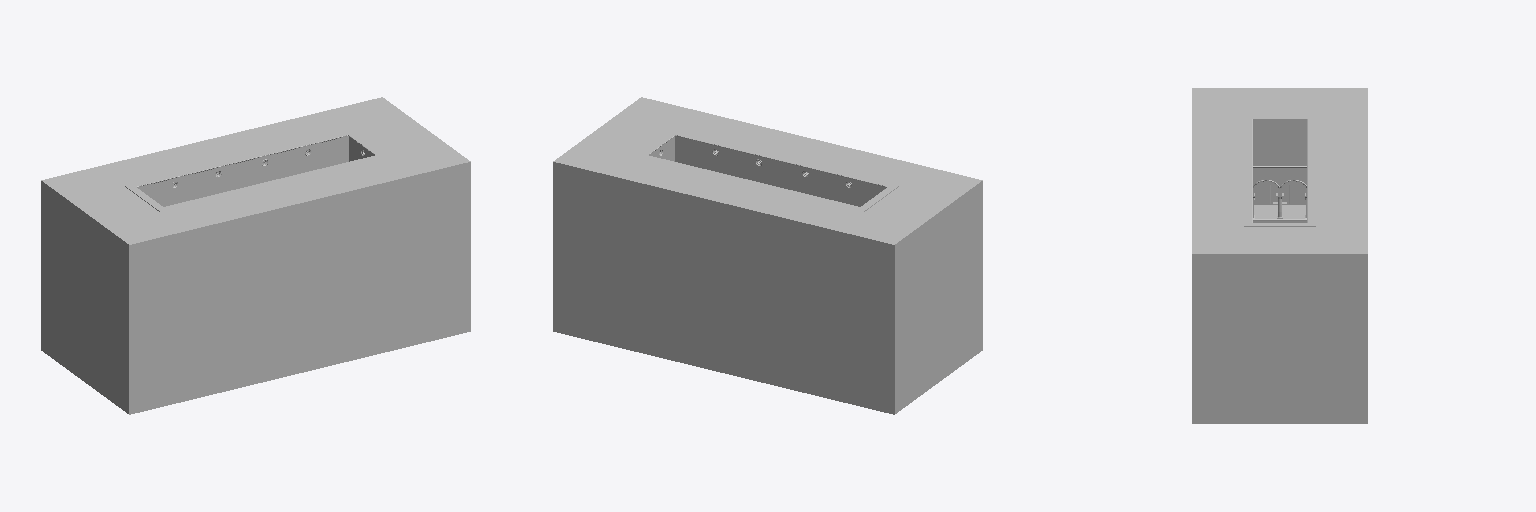
File: sponza_tri.obj
The picture shows the model from 3 angles: view 1: azimuth 30°, elevation 25°; view 2: azimuth 150°, elevation 25°; view 3: azimuth 270°, elevation 25°; orthographic projection.
Parts seen in each view (by area): view 1: sponza.lwo_sp_zid_van, sponza.lwo_sp_00_zid, sponza.lwo_sp_vijenac; view 2: sponza.lwo_sp_zid_van, sponza.lwo_sp_00_zid, sponza.lwo_sp_vijenac; view 3: sponza.lwo_sp_zid_van, sponza.lwo_sp_00_zid, sponza.lwo_sp_vijenac, sponza.lwo_sp_02_relj, sponza.lwo_sp_vij.
Boxes of the visible parts, x1=… form: sponza.lwo_sp_zid_van: x1=41, y1=97, x2=470, y2=414; sponza.lwo_sp_00_zid: x1=125, y1=136, x2=374, y2=211; sponza.lwo_sp_vijenac: x1=125, y1=130, x2=387, y2=211; sponza.lwo_sp_zid_van: x1=553, y1=97, x2=982, y2=414; sponza.lwo_sp_00_zid: x1=649, y1=136, x2=898, y2=211; sponza.lwo_sp_vijenac: x1=636, y1=130, x2=898, y2=211; sponza.lwo_sp_zid_van: x1=1192, y1=88, x2=1367, y2=423; sponza.lwo_sp_00_zid: x1=1244, y1=120, x2=1315, y2=226; sponza.lwo_sp_vijenac: x1=1244, y1=116, x2=1315, y2=225; sponza.lwo_sp_02_relj: x1=1260, y1=136, x2=1299, y2=165; sponza.lwo_sp_vij: x1=1251, y1=119, x2=1308, y2=222.
Size of the model in its own units: 3.48 by 1.66 by 1.56.